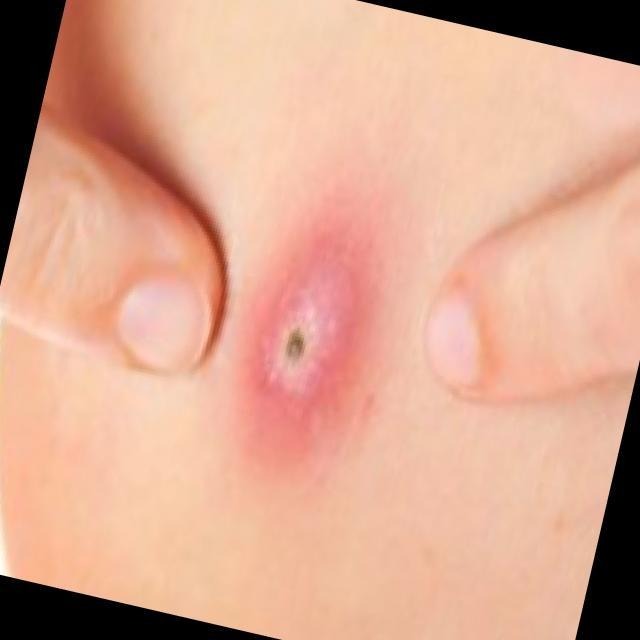Eczema: (246, 229, 369, 426)
